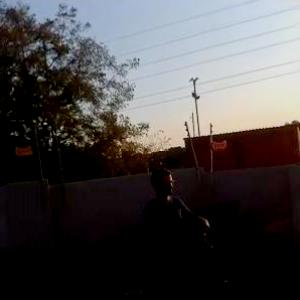follow: (135, 161, 222, 299)
